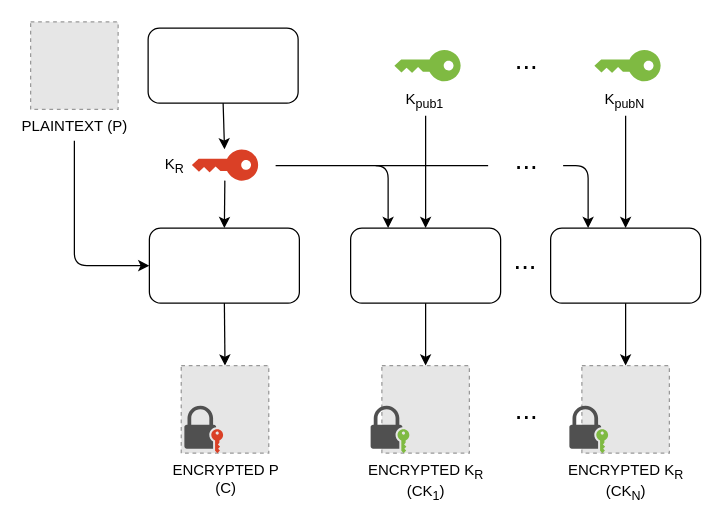
Image size: 723x528. Some labels were removed from this diagram. Grey dashed boxes stand in for pictures. Each missing label, with the box of its shape:
Encrypt K R using K pub1 (RSA): (349, 227, 501, 303)
Encrypt K R using K pubN (RSA): (549, 227, 701, 303)
Encrypt P using K R (AES): (148, 227, 299, 303)
Generate Random Key (K R ): (147, 27, 298, 103)
